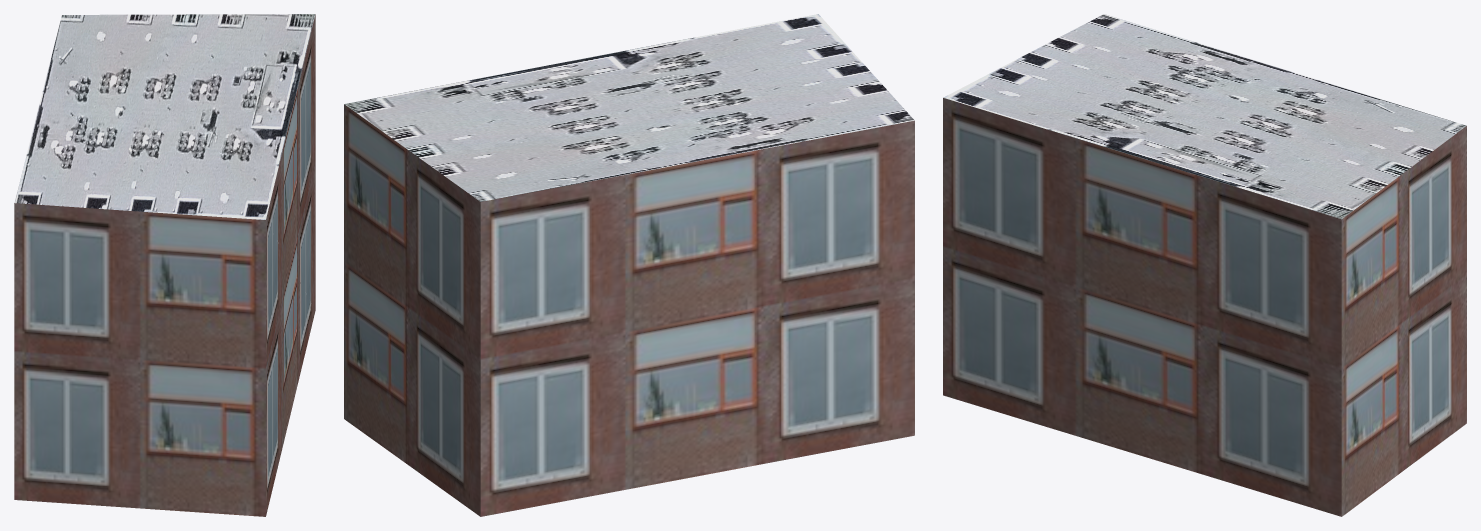
Rendered from ResTex__3446.fbx.
The picture shows the model from 3 angles, left to right: view 1: azimuth 30°, elevation 25°; view 2: azimuth 150°, elevation 25°; view 3: azimuth 270°, elevation 25°; orthographic projection. The views are drawn at different scales.
Parts seen in each view (by area): view 1: CityEngineMaterial_19_m, CityEngineMaterial_2_m; view 2: CityEngineMaterial_19_m, CityEngineMaterial_2_m; view 3: CityEngineMaterial_19_m, CityEngineMaterial_2_m.
Boxes of the visible parts, x1,y1,x2,y2 form: CityEngineMaterial_19_m: (14,14,315,516); CityEngineMaterial_2_m: (14,14,315,219); CityEngineMaterial_19_m: (344,104,914,516); CityEngineMaterial_2_m: (344,14,914,201); CityEngineMaterial_19_m: (943,98,1466,516); CityEngineMaterial_2_m: (943,14,1466,219).
Size of the model in its own units: 8.87 by 6 by 9.57.
2 materials, 2 textured.
